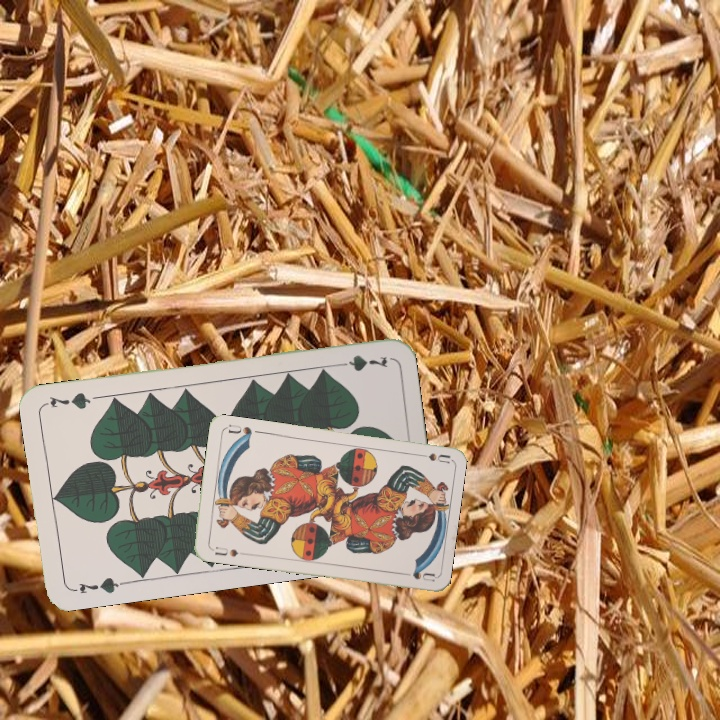G7: (68, 573, 128, 597), (330, 351, 390, 374)
SU: (207, 542, 248, 560), (410, 449, 451, 465)
